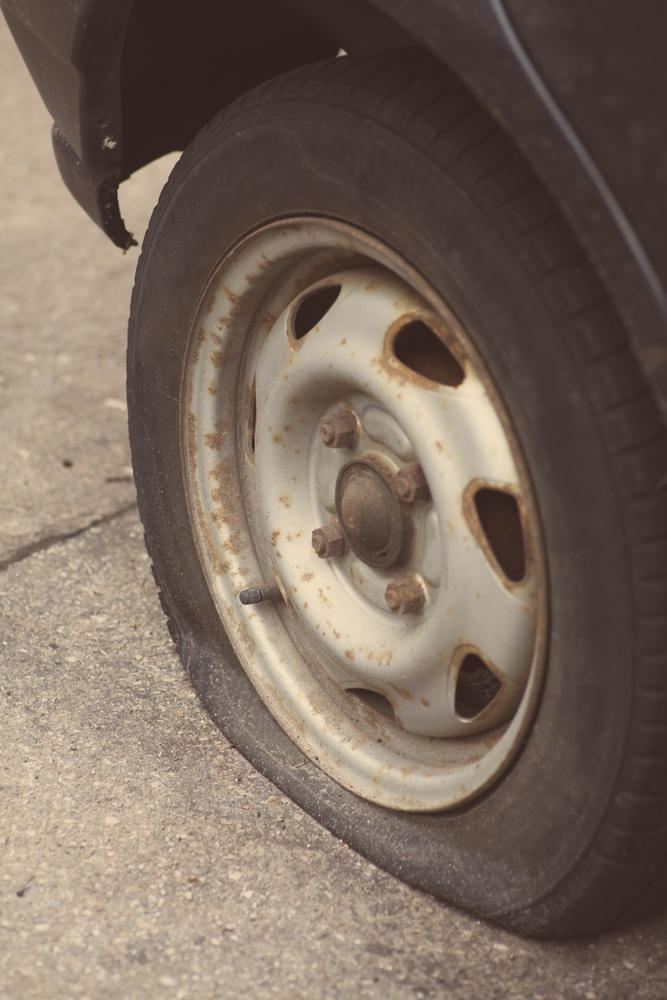tire flat: (129, 41, 667, 944)
